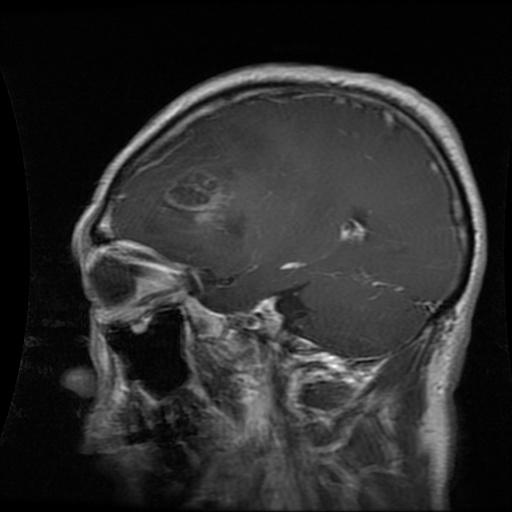glioma: (162, 166, 231, 225)
